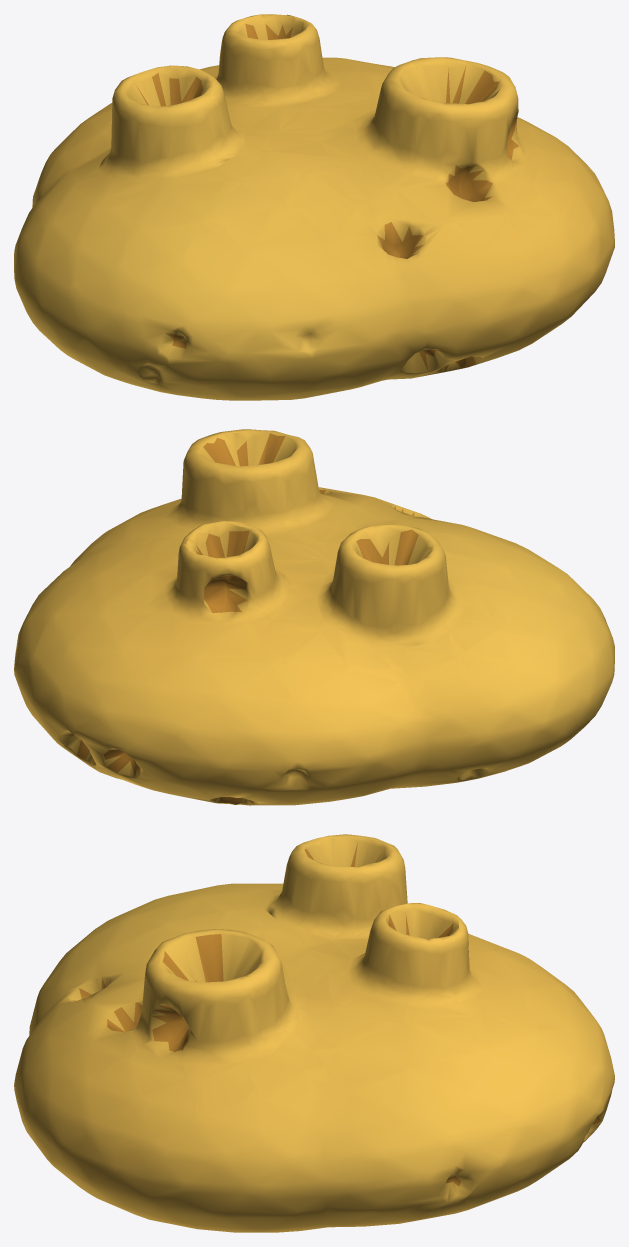
The model's file is shore_sea_sponge.glb.
3 views of the same model, one above another, from view 1: azimuth 30°, elevation 25°; view 2: azimuth 150°, elevation 25°; view 3: azimuth 270°, elevation 25° (orthographic). The views are drawn at different scales.
Parts seen in each view (by area): view 1: shore_sea_sponge; view 2: shore_sea_sponge; view 3: shore_sea_sponge.
Boxes of the visible parts, x1,y1,x2,y2 form: shore_sea_sponge: [14, 14, 614, 400]; shore_sea_sponge: [14, 429, 614, 805]; shore_sea_sponge: [14, 834, 614, 1232].
Size of the model in its own units: 4.56 by 1.84 by 4.35.
